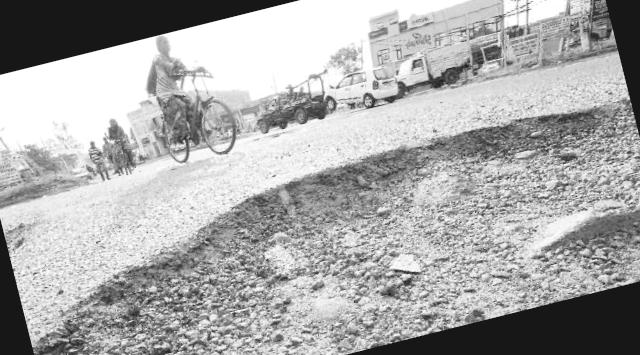Pothole: (3, 77, 640, 355)
